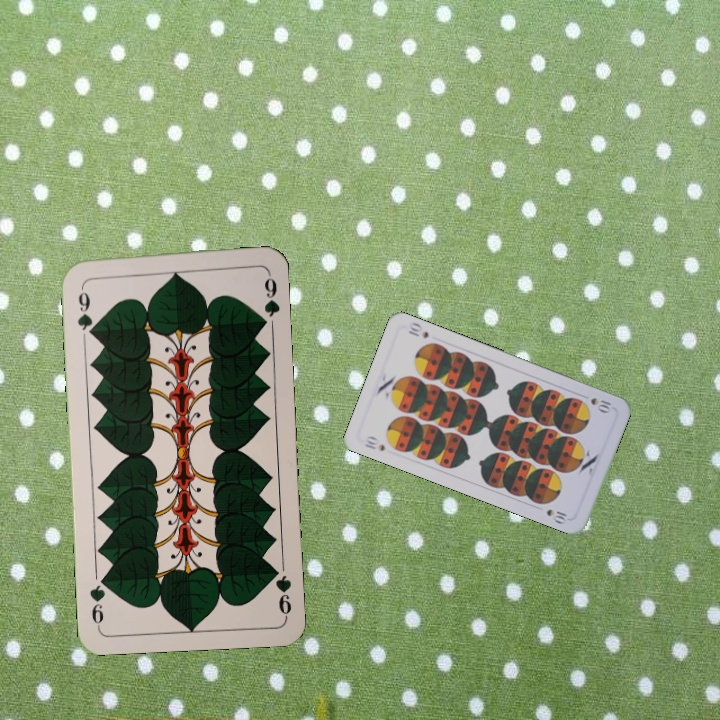G9: (267, 561, 294, 620), (73, 280, 97, 339)
S10: (586, 393, 614, 415), (360, 432, 388, 454)
